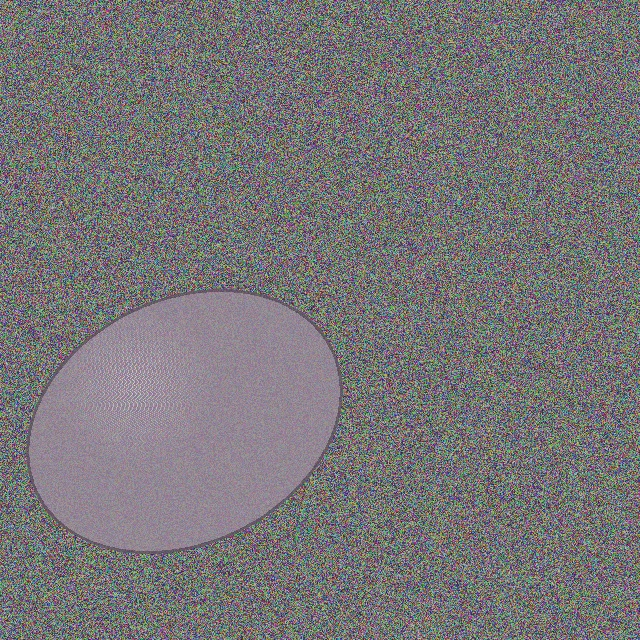lens: (28, 290, 340, 552)
